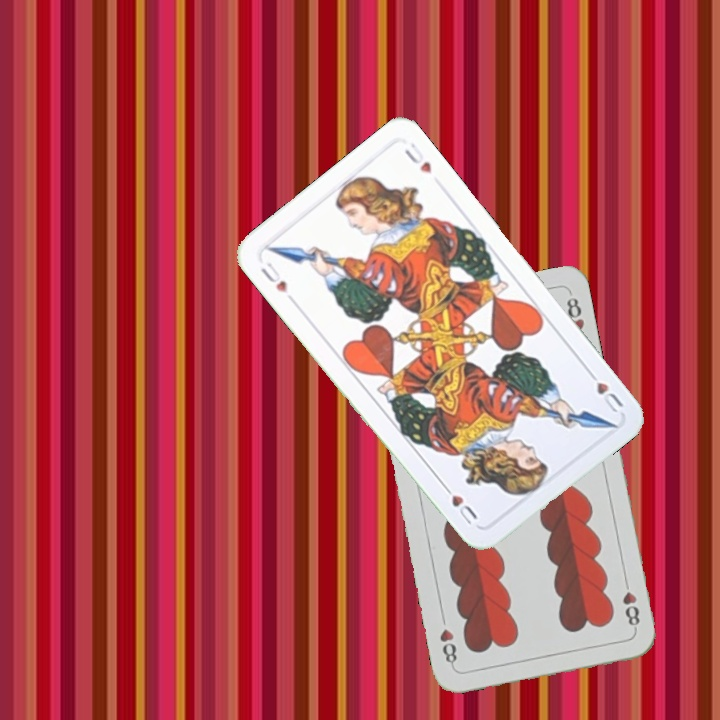H8: (618, 574, 642, 633)
HU: (582, 365, 626, 416), (257, 257, 290, 296)
